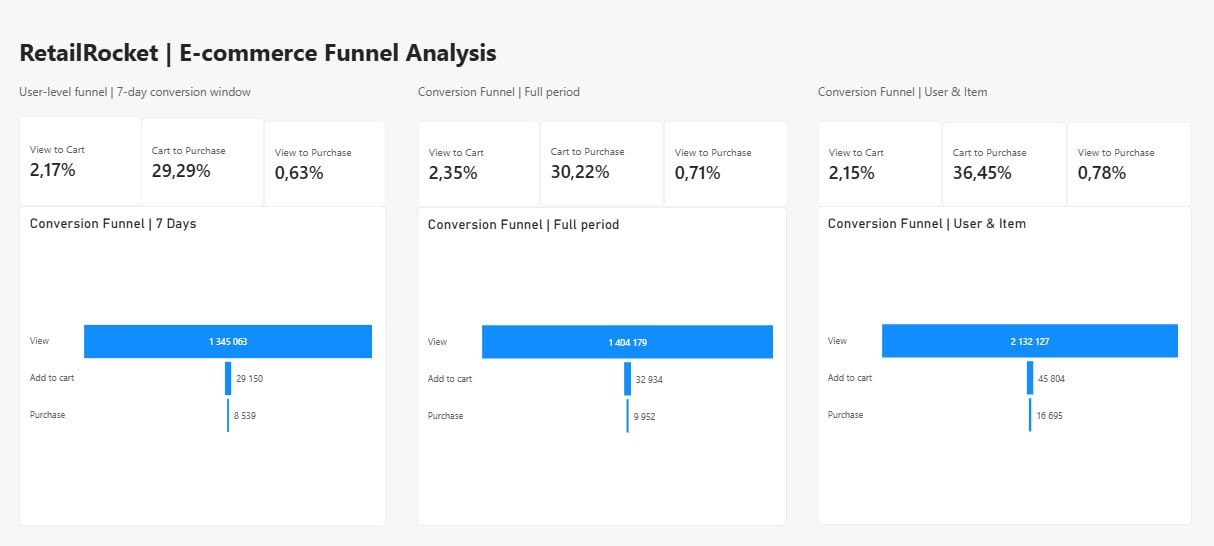

This screenshot's page, from the dashboard's own definition file:
{"tool":"powerbi","page":{"name":"Page 1","canvas":[1920,1080],"ordinal":0},"visuals":[{"type":"funnel","title":"Conversion Funnel | 7 Days","fields":{"Category":["funnel_summary.stage"],"Y":["Sum(funnel_summary.users_count)"]},"box":[34.6,323.7,576.6,502.8],"z":0},{"type":"cardVisual","fields":{"Data":["funnel_summary.View to Cart CR"]},"box":[34.6,182.3,193.3,141.4],"z":1},{"type":"cardVisual","fields":{"Data":["funnel_summary.Cart to Purchase CR"]},"box":[226.3,185.4,193.3,139.8],"z":2},{"type":"cardVisual","fields":{"Data":["funnel_summary.View to Purchase CR"]},"box":[419.5,190.1,191.7,135.1],"z":3},{"type":"textbox","box":[35,56.9,770.3,62.7],"z":4},{"type":"textbox","box":[34.6,130.4,685,53.4],"z":5},{"type":"funnel","title":"Conversion Funnel | Full period","fields":{"Category":["funnel_summary.stage"],"Y":["Sum(funnel_summary.users_count)"]},"box":[659.9,325.2,581.3,501.2],"z":6},{"type":"funnel","title":"Conversion Funnel | User & Item","fields":{"Category":["funnel_summary.stage"],"Y":["Sum(funnel_summary.users_count)"]},"box":[1288.4,323.7,589.2,501.2],"z":7},{"type":"textbox","box":[661.5,130.4,581.3,61.3],"z":8},{"type":"textbox","box":[1290,130.4,625.3,59.7],"z":9},{"type":"cardVisual","fields":{"Data":["funnel_summary.View to Cart CR Dynamic"]},"box":[661.5,190.1,191.7,135.1],"z":10},{"type":"cardVisual","fields":{"Data":["funnel_summary.Cart to Purchase CR Dynamic"]},"box":[853.2,190.1,193.3,133.6],"z":11},{"type":"cardVisual","fields":{"Data":["funnel_summary.Cart to Purchase CR Dynamic"]},"box":[1484.8,191.7,196.4,133.6],"z":12},{"type":"cardVisual","fields":{"Data":["funnel_summary.View to Cart CR Dynamic"]},"box":[1290,190.1,194.8,135.1],"z":13},{"type":"cardVisual","fields":{"Data":["funnel_summary.View to Purchase CR Dynamic"]},"box":[1048,190.1,194.8,135.1],"z":14},{"type":"cardVisual","fields":{"Data":["funnel_summary.View to Purchase CR Dynamic"]},"box":[1681.2,191.7,196.4,133.6],"z":15}]}

Visuals, with their boxes on the page's 1920x1080 design canvas (x1, y1, x2, y2). These are canvas units, not pixel positions in the 1214x546 screenshot, which may show the page scaled, cropped or inside an application window:
"Conversion Funnel | 7 Days" funnel: x1=35, y1=324, x2=611, y2=826
cardVisual - funnel_summary.View to Cart CR: x1=35, y1=182, x2=228, y2=324
cardVisual - funnel_summary.Cart to Purchase CR: x1=226, y1=185, x2=420, y2=325
cardVisual - funnel_summary.View to Purchase CR: x1=420, y1=190, x2=611, y2=325
textbox: x1=35, y1=57, x2=805, y2=120
textbox: x1=35, y1=130, x2=720, y2=184
"Conversion Funnel | Full period" funnel: x1=660, y1=325, x2=1241, y2=826
"Conversion Funnel | User & Item" funnel: x1=1288, y1=324, x2=1878, y2=825
textbox: x1=662, y1=130, x2=1243, y2=192
textbox: x1=1290, y1=130, x2=1915, y2=190
cardVisual - funnel_summary.View to Cart CR Dynamic: x1=662, y1=190, x2=853, y2=325
cardVisual - funnel_summary.Cart to Purchase CR Dynamic: x1=853, y1=190, x2=1046, y2=324
cardVisual - funnel_summary.Cart to Purchase CR Dynamic: x1=1485, y1=192, x2=1681, y2=325
cardVisual - funnel_summary.View to Cart CR Dynamic: x1=1290, y1=190, x2=1485, y2=325
cardVisual - funnel_summary.View to Purchase CR Dynamic: x1=1048, y1=190, x2=1243, y2=325
cardVisual - funnel_summary.View to Purchase CR Dynamic: x1=1681, y1=192, x2=1878, y2=325
